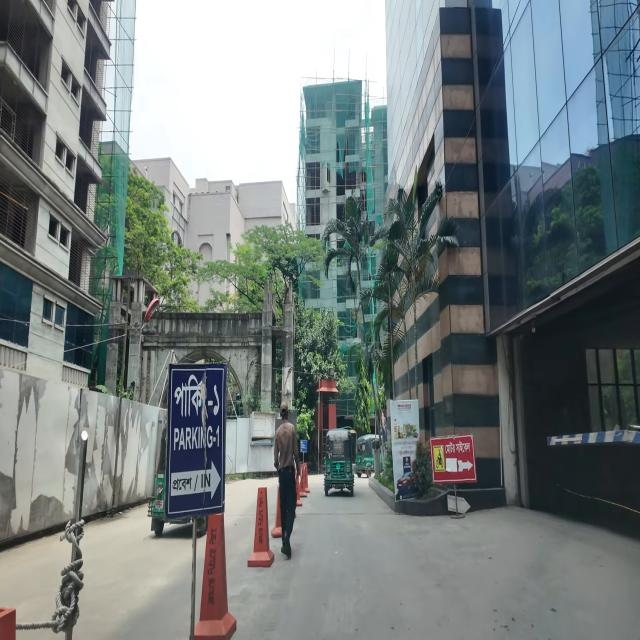person: (274, 402, 301, 559)
